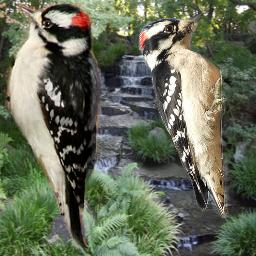Woodpecker: (2, 3, 101, 252), (138, 13, 229, 218)
